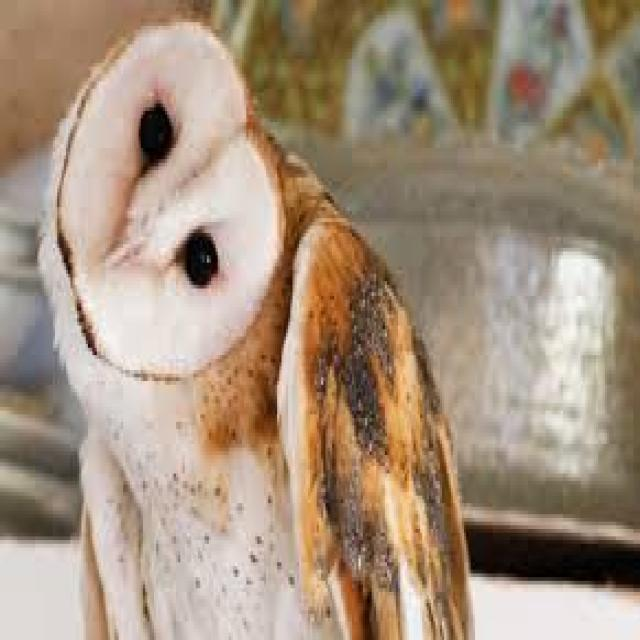Owl: (38, 8, 480, 640)
